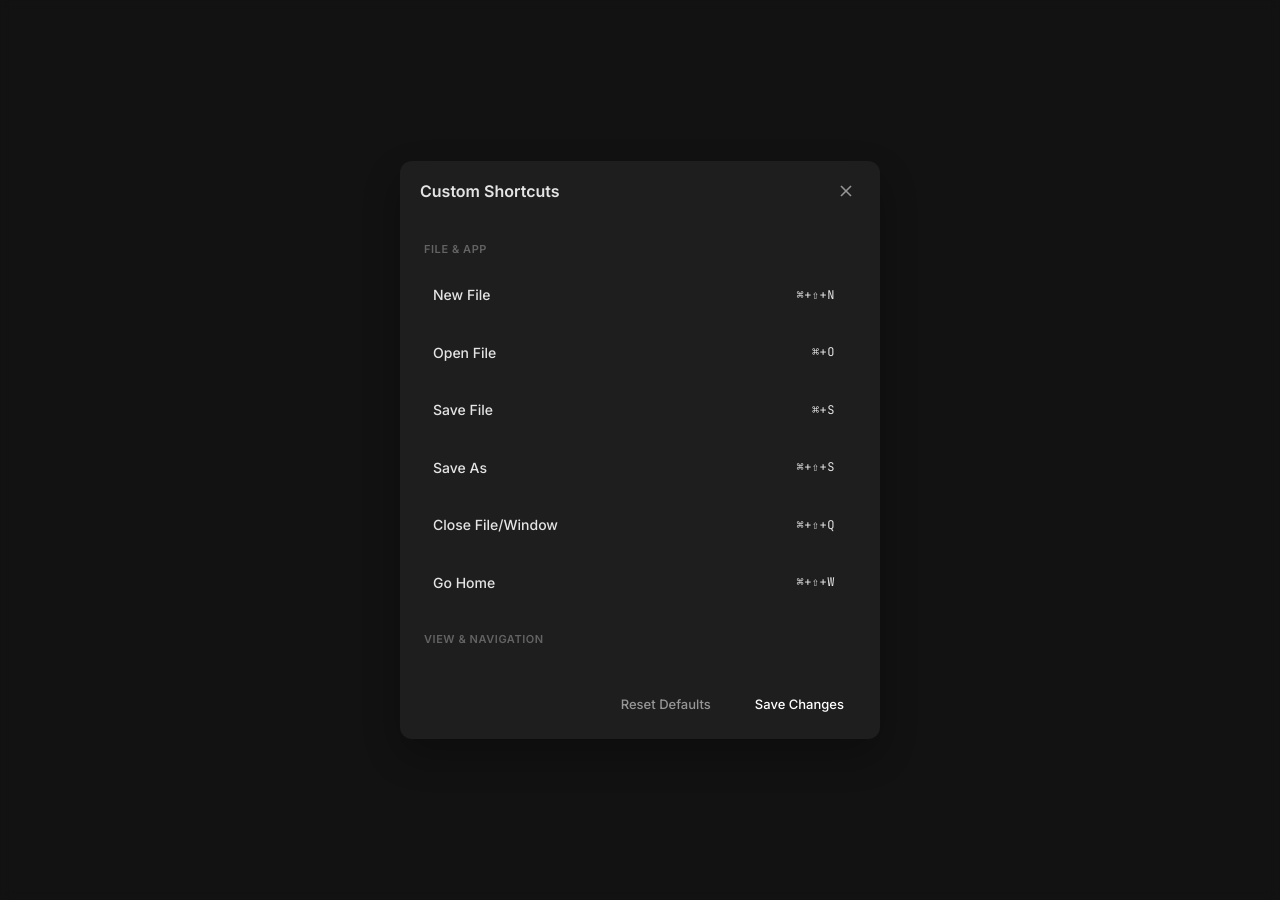
ShortcutConfigModal.svelte › enters listening mode when a shortcut is clicked
The image size is (1280, 900).
Step 1. Click the button with class "shortcut-btn" showing "⌘+⇧+N" → click(777, 295), box [707,279,847,310]
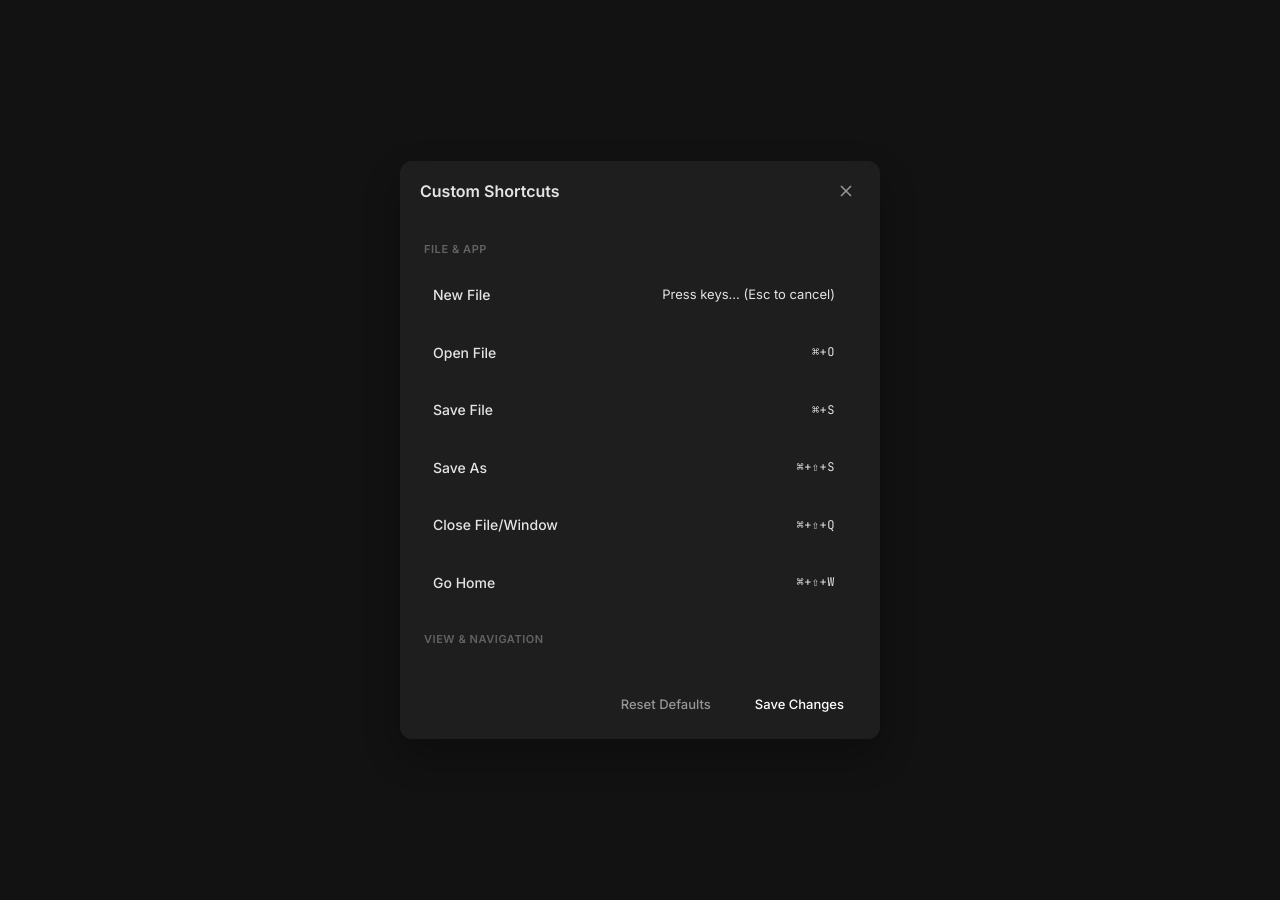
Check: the button with class "shortcut-btn" reads "Press keys... (Esc to cancel)", box [650,279,847,310]
